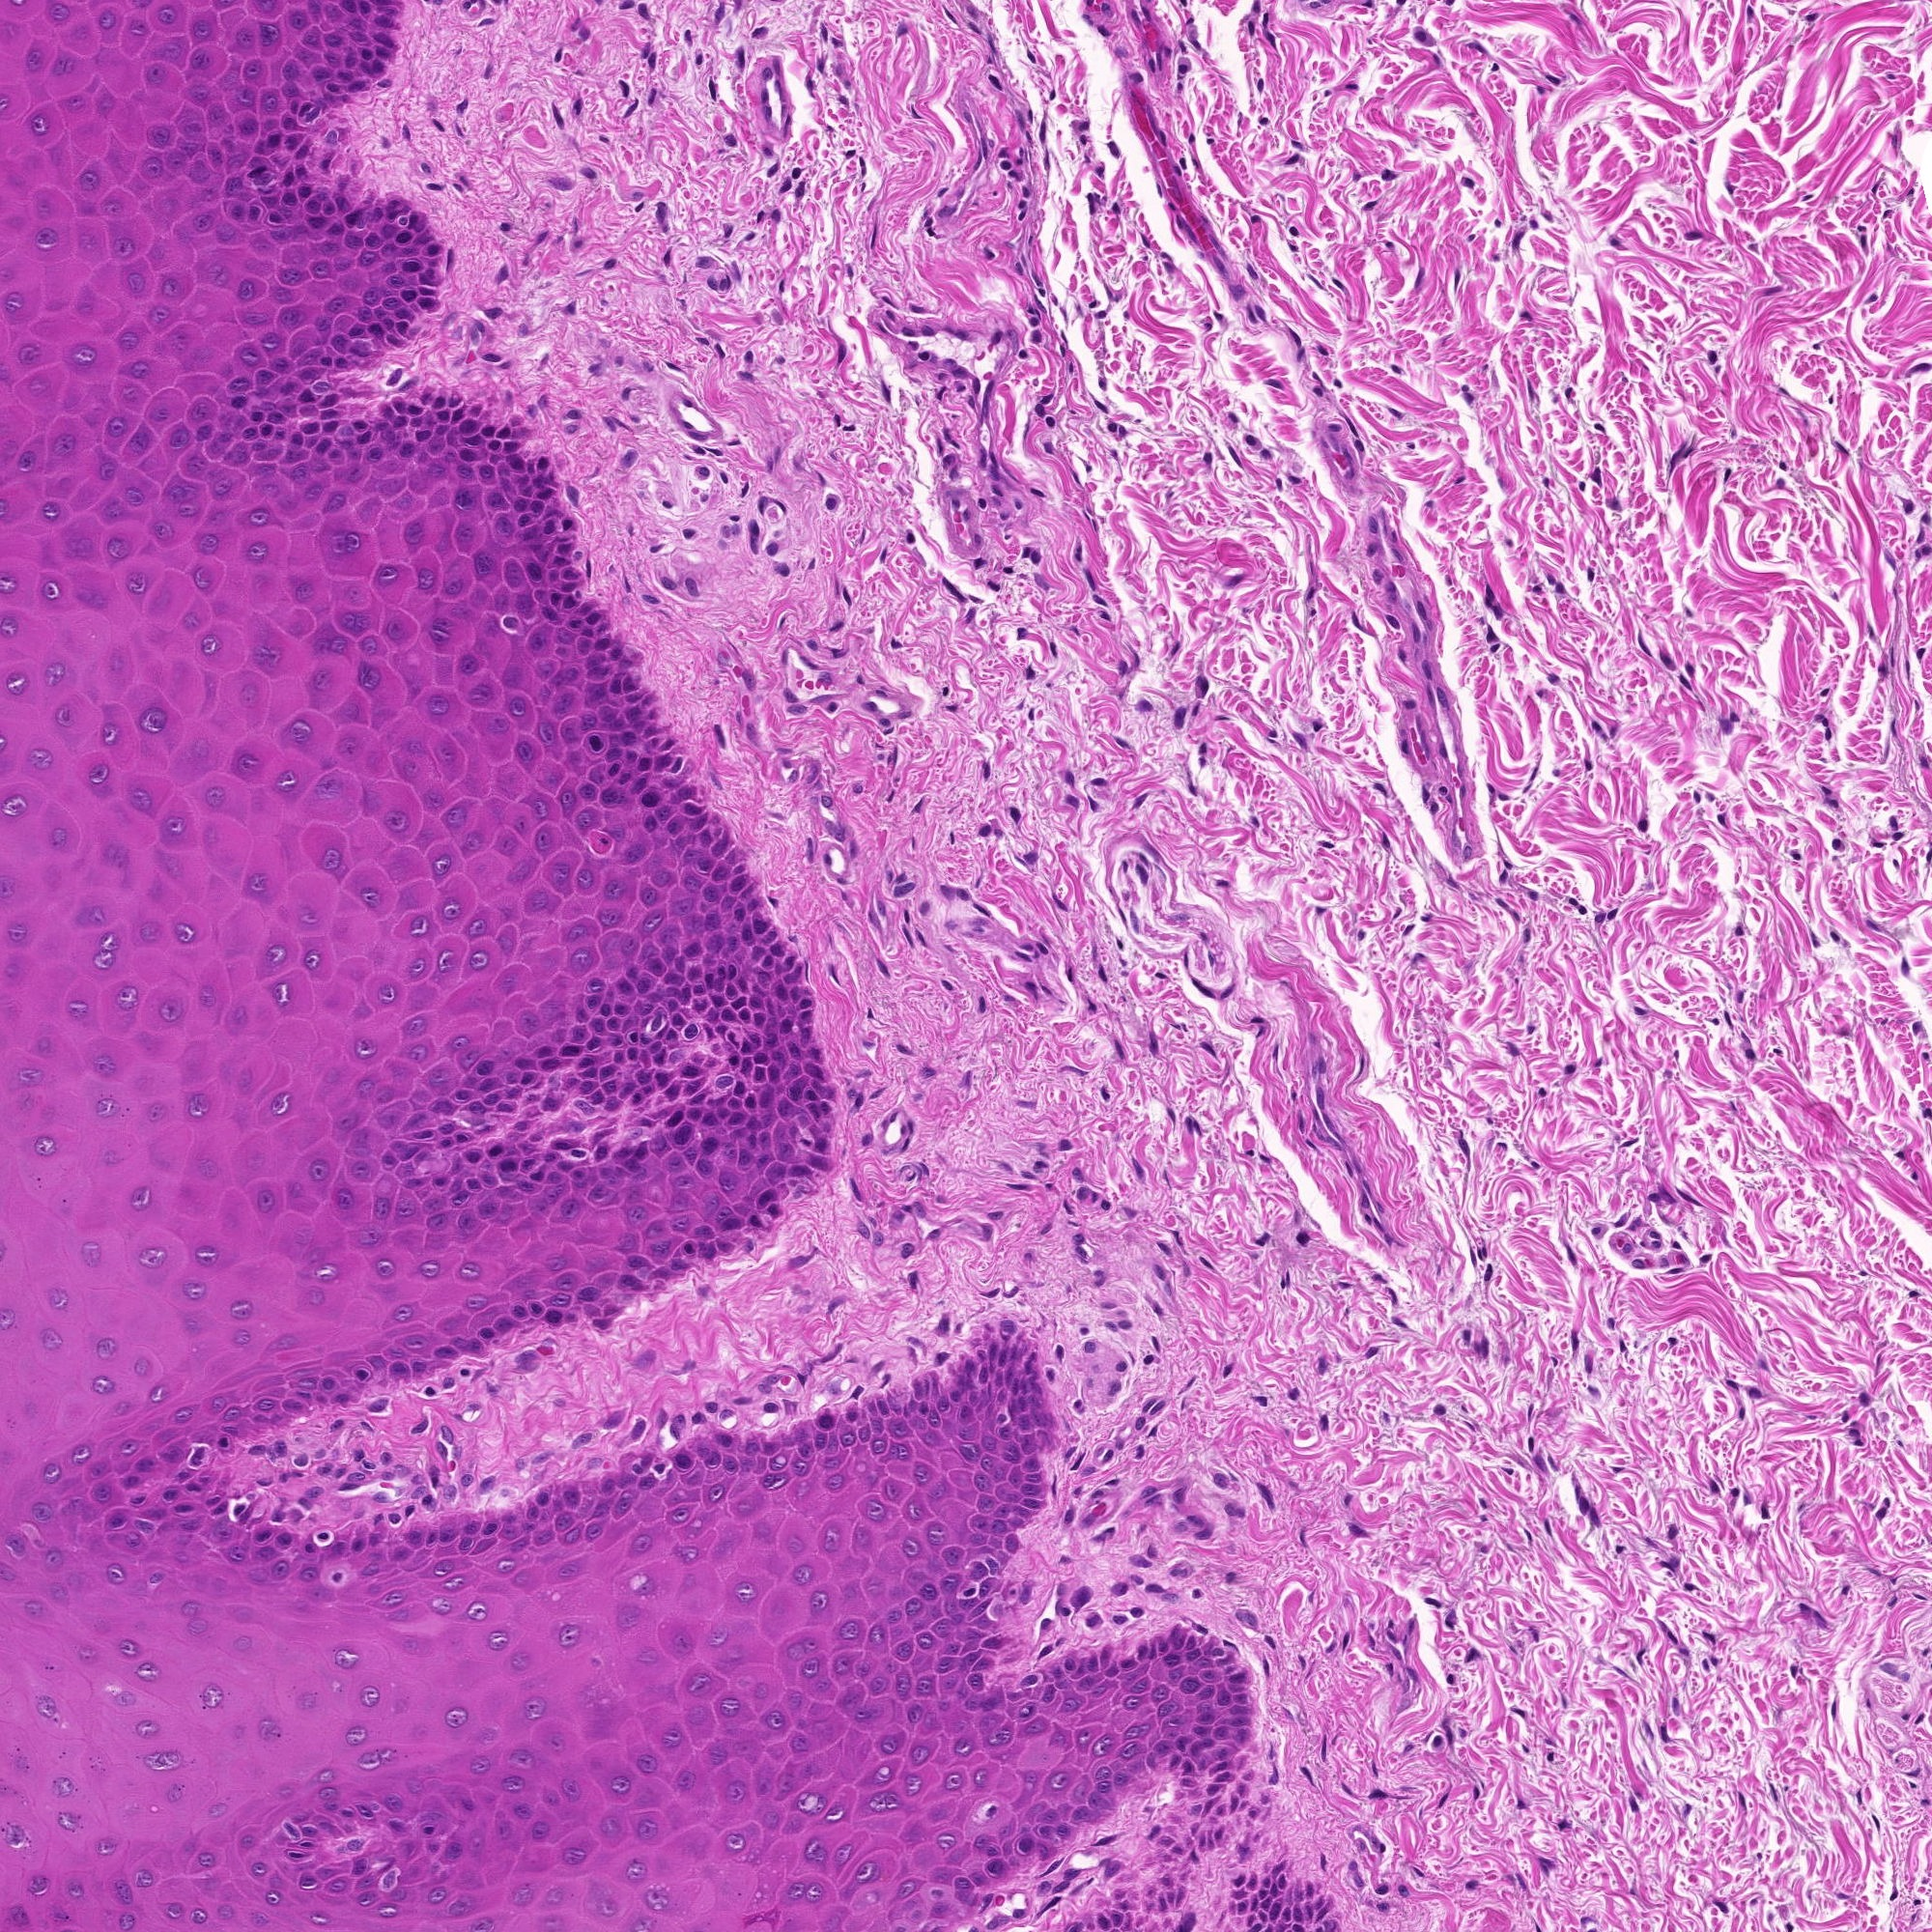epithelial: (380, 320, 412, 354), (439, 387, 471, 421), (258, 1875, 290, 1909), (692, 968, 725, 1000), (1207, 1748, 1240, 1780), (1207, 1633, 1240, 1665), (453, 410, 485, 442), (290, 380, 322, 412), (393, 280, 425, 311), (223, 386, 255, 418), (301, 205, 333, 237), (258, 124, 290, 156), (249, 414, 281, 446), (242, 156, 274, 188), (241, 400, 272, 432), (350, 37, 382, 69), (295, 412, 327, 444), (349, 423, 380, 455), (391, 433, 423, 465), (426, 400, 458, 432), (398, 395, 430, 426), (343, 410, 375, 442), (338, 225, 370, 257), (313, 384, 345, 416), (455, 421, 487, 453), (356, 225, 387, 257), (384, 405, 416, 437), (318, 25, 350, 57), (317, 189, 349, 221), (19, 108, 51, 140), (18, 41, 50, 73), (366, 25, 398, 57), (232, 111, 264, 143), (225, 366, 257, 398), (380, 265, 412, 297), (403, 405, 435, 437), (333, 44, 364, 76), (163, 423, 195, 455), (403, 281, 435, 313), (423, 414, 455, 446), (317, 42, 349, 74), (12, 340, 44, 372), (393, 212, 425, 244), (359, 412, 391, 444), (327, 412, 359, 444), (90, 453, 122, 485), (271, 395, 303, 426), (221, 375, 253, 407), (375, 421, 407, 453), (97, 188, 129, 219), (295, 25, 327, 57), (88, 88, 120, 120), (50, 426, 81, 458), (389, 198, 421, 230), (255, 87, 287, 119), (306, 180, 338, 212), (349, 203, 380, 235), (152, 2, 184, 34), (184, 396, 216, 428), (209, 219, 241, 251), (255, 437, 287, 469), (382, 216, 414, 248), (143, 299, 175, 331), (317, 120, 349, 152), (306, 407, 338, 439), (297, 340, 329, 372), (230, 78, 262, 110), (249, 403, 281, 435), (336, 458, 368, 490), (260, 211, 292, 242), (350, 27, 382, 58), (264, 145, 295, 177), (343, 69, 375, 101), (71, 193, 103, 225), (175, 111, 207, 143), (423, 235, 455, 267), (331, 329, 363, 361), (311, 205, 343, 237), (405, 234, 437, 265), (271, 173, 303, 205), (338, 437, 370, 469), (453, 648, 485, 679), (370, 557, 402, 589), (350, 658, 382, 690), (34, 495, 65, 527), (379, 614, 410, 646), (285, 571, 317, 603), (143, 513, 175, 545), (421, 688, 453, 720), (96, 495, 127, 527), (142, 701, 173, 732), (241, 536, 272, 568), (34, 575, 65, 607), (241, 867, 272, 899), (126, 784, 157, 816), (186, 561, 218, 593), (101, 839, 133, 870), (80, 584, 111, 616), (299, 671, 331, 702), (458, 941, 490, 973), (62, 533, 94, 564), (448, 596, 479, 628), (345, 1359, 377, 1391), (311, 1368, 343, 1399), (426, 1090, 458, 1122), (264, 977, 295, 1008), (278, 1175, 310, 1207), (387, 1297, 419, 1329), (166, 1399, 198, 1431), (414, 1254, 446, 1286), (345, 1122, 377, 1154), (88, 1369, 120, 1401), (271, 1325, 303, 1357), (449, 1033, 481, 1065), (150, 1421, 182, 1453), (446, 1332, 478, 1364), (154, 1477, 186, 1509), (341, 1529, 373, 1560), (412, 1813, 444, 1845), (177, 1472, 209, 1504), (451, 1789, 483, 1821), (449, 1529, 481, 1560), (377, 1787, 409, 1819), (292, 1815, 324, 1847), (25, 1495, 57, 1527), (221, 1539, 253, 1571), (350, 1875, 382, 1907), (122, 1484, 154, 1516), (172, 1463, 203, 1495), (205, 1516, 237, 1548), (214, 1493, 246, 1525), (142, 1560, 173, 1592), (18, 1592, 50, 1624), (195, 1681, 226, 1713), (168, 1502, 200, 1534), (421, 1877, 453, 1909), (354, 1681, 386, 1713), (499, 458, 531, 490), (612, 442, 644, 474), (492, 453, 524, 485), (497, 439, 529, 471), (518, 554, 550, 586), (625, 768, 656, 800), (628, 748, 660, 780), (722, 867, 754, 899), (600, 671, 632, 702), (761, 936, 793, 968), (617, 697, 649, 729), (688, 847, 720, 879), (600, 637, 632, 669), (513, 518, 545, 550), (527, 824, 559, 856), (570, 593, 602, 625), (552, 575, 584, 607), (571, 708, 603, 740), (550, 520, 582, 552), (490, 828, 522, 860), (568, 628, 600, 660), (591, 633, 623, 665), (596, 874, 628, 906), (527, 886, 559, 918), (510, 552, 541, 584), (536, 536, 568, 568), (483, 709, 515, 741), (938, 485, 970, 517), (518, 531, 550, 563), (660, 775, 692, 807), (589, 617, 621, 649), (690, 931, 722, 962), (722, 886, 754, 918), (663, 826, 695, 858), (628, 706, 660, 738), (575, 717, 607, 748), (605, 717, 637, 748), (607, 727, 639, 759), (483, 607, 515, 639), (495, 506, 527, 538), (706, 847, 738, 879), (545, 863, 577, 895), (501, 584, 533, 616), (635, 692, 667, 724), (702, 985, 734, 1017), (740, 985, 771, 1017), (736, 1026, 768, 1058), (711, 1000, 743, 1031), (713, 1208, 745, 1240), (743, 1058, 775, 1090), (563, 1017, 594, 1049), (764, 975, 796, 1007), (662, 1005, 694, 1037), (589, 994, 621, 1026), (694, 1104, 725, 1136), (644, 1040, 676, 1072), (706, 993, 738, 1024), (778, 1033, 810, 1065), (511, 1146, 543, 1178), (715, 975, 747, 1007), (743, 1003, 775, 1035), (805, 1093, 837, 1125), (612, 1072, 644, 1104), (676, 1072, 708, 1104), (750, 1083, 782, 1115), (789, 991, 821, 1023), (600, 1138, 632, 1169), (640, 1003, 672, 1035), (510, 1343, 541, 1375), (694, 1237, 725, 1269), (688, 1152, 720, 1184), (729, 1141, 761, 1173), (635, 1069, 667, 1100), (699, 977, 731, 1008), (637, 1030, 669, 1062), (692, 1118, 724, 1150), (908, 1392, 939, 1424), (929, 1387, 961, 1419), (573, 1062, 605, 1093), (564, 1031, 596, 1063), (591, 1086, 623, 1118), (490, 1086, 522, 1118), (626, 1039, 658, 1070), (513, 1005, 545, 1037), (630, 1024, 662, 1056), (789, 1016, 821, 1047), (547, 1037, 579, 1069), (706, 1086, 738, 1118), (628, 1343, 660, 1375), (552, 1141, 584, 1173), (596, 1157, 628, 1189), (759, 1016, 791, 1047), (690, 1085, 722, 1116), (575, 1076, 607, 1108), (759, 1033, 791, 1065), (481, 1315, 513, 1346), (552, 1024, 584, 1056), (729, 1062, 761, 1093), (918, 1401, 950, 1433), (633, 975, 665, 1007), (784, 1024, 816, 1056), (738, 1067, 770, 1099), (775, 962, 807, 994), (596, 1063, 628, 1095), (862, 1401, 893, 1433), (563, 1044, 594, 1076), (731, 1099, 763, 1131), (653, 978, 685, 1010), (782, 1046, 814, 1077), (506, 1122, 538, 1154), (589, 1030, 621, 1062), (711, 1040, 743, 1072), (552, 1300, 584, 1332), (667, 1444, 699, 1476), (913, 1576, 945, 1608), (701, 1474, 732, 1506), (853, 1856, 885, 1888), (862, 1670, 893, 1702), (835, 1614, 867, 1645), (922, 1798, 954, 1829), (625, 1451, 656, 1483), (487, 1813, 518, 1845), (720, 1822, 752, 1854), (916, 1516, 948, 1548), (782, 1874, 814, 1905), (610, 1465, 642, 1497), (846, 1520, 878, 1552), (784, 1451, 816, 1483), (922, 1884, 954, 1916), (490, 1509, 522, 1541), (612, 1599, 644, 1631), (534, 1783, 566, 1815), (1330, 439, 1362, 471), (1161, 182, 1192, 214), (993, 1311, 1024, 1343), (985, 1408, 1017, 1440), (1012, 1387, 1044, 1419), (977, 1362, 1008, 1394), (1010, 1829, 1042, 1861), (978, 1626, 1010, 1658), (1164, 1727, 1196, 1759), (1111, 1647, 1143, 1679), (1076, 1647, 1108, 1679), (961, 1665, 993, 1697), (1065, 1798, 1097, 1829), (1208, 1683, 1240, 1714), (962, 1863, 994, 1895), (1254, 1875, 1286, 1907), (1192, 1660, 1224, 1691), (1263, 1858, 1295, 1890), (1240, 1888, 1272, 1920), (1261, 1882, 1293, 1914), (964, 1507, 996, 1539), (1095, 1852, 1127, 1884), (1205, 1737, 1237, 1769), (1219, 1718, 1251, 1750), (1184, 1750, 1215, 1782), (1016, 1465, 1047, 1497), (985, 1495, 1017, 1527), (1208, 1760, 1240, 1792), (1286, 1522, 1318, 1553), (1099, 1900, 1131, 1932), (961, 1679, 993, 1711), (1207, 1725, 1238, 1757), (416, 230, 446, 264), (412, 260, 442, 294), (395, 226, 428, 257), (396, 239, 426, 272), (258, 426, 288, 460), (717, 1021, 747, 1054), (534, 1141, 568, 1171), (860, 1495, 893, 1525), (1398, 731, 1431, 761), (1028, 1815, 1062, 1845), (387, 223, 419, 253), (396, 249, 426, 281), (338, 203, 370, 234), (274, 182, 304, 214), (453, 439, 483, 471), (288, 175, 320, 205), (405, 421, 437, 451), (442, 400, 472, 432), (272, 163, 303, 195), (386, 311, 418, 341), (260, 202, 290, 234), (398, 205, 428, 237), (276, 126, 306, 157), (308, 430, 338, 462), (281, 5, 313, 35), (253, 18, 283, 50), (313, 395, 343, 426), (368, 5, 398, 37), (341, 334, 373, 364), (262, 402, 292, 433), (272, 372, 303, 403), (387, 297, 418, 329), (329, 60, 359, 92), (377, 196, 409, 226), (276, 303, 308, 333), (412, 287, 442, 318), (449, 455, 481, 485), (310, 345, 341, 375), (373, 311, 405, 341), (223, 196, 255, 226), (232, 274, 264, 304), (283, 133, 313, 165), (30, 219, 60, 251), (391, 288, 421, 320), (145, 120, 175, 152), (384, 391, 414, 423), (138, 58, 170, 88), (265, 418, 295, 449), (265, 350, 297, 380), (73, 163, 104, 193), (255, 186, 287, 216), (412, 276, 444, 306), (317, 73, 349, 103), (379, 290, 410, 320), (188, 416, 219, 446), (276, 260, 308, 290), (292, 359, 322, 391), (311, 421, 341, 453), (349, 299, 380, 329), (451, 396, 481, 428), (361, 198, 393, 228), (276, 57, 306, 88), (184, 46, 216, 76), (320, 290, 352, 320), (124, 12, 154, 44), (246, 133, 278, 163), (111, 324, 143, 354), (363, 46, 393, 78), (310, 149, 341, 179), (327, 175, 357, 207), (237, 55, 269, 85), (407, 225, 439, 255), (464, 414, 495, 444), (288, 150, 318, 182), (90, 5, 122, 35), (437, 410, 467, 442), (306, 196, 336, 228), (343, 19, 373, 51), (234, 338, 265, 368), (373, 412, 405, 442), (313, 435, 345, 465), (257, 324, 287, 356), (356, 280, 386, 311), (292, 393, 324, 423), (345, 48, 375, 80), (237, 304, 269, 334), (124, 356, 156, 386), (333, 428, 363, 460), (382, 430, 414, 460), (462, 311, 492, 343), (200, 99, 230, 131), (297, 400, 327, 432), (366, 297, 398, 327), (281, 90, 311, 122), (329, 73, 359, 104), (405, 389, 435, 421), (99, 414, 131, 444), (311, 65, 341, 97), (396, 267, 426, 299), (391, 384, 421, 416), (138, 150, 170, 180), (223, 442, 255, 472), (423, 455, 453, 487), (288, 212, 320, 242), (288, 41, 320, 71), (267, 278, 297, 310), (329, 196, 361, 226), (418, 403, 449, 433), (246, 377, 278, 407), (382, 203, 414, 234), (253, 110, 285, 140), (285, 456, 315, 488), (142, 239, 173, 269), (65, 349, 97, 379), (435, 423, 467, 453), (248, 198, 280, 228), (177, 449, 209, 479), (288, 140, 318, 172), (327, 249, 359, 280), (364, 219, 396, 249), (163, 143, 193, 175), (345, 308, 375, 340), (405, 253, 435, 285), (410, 414, 442, 444), (370, 403, 400, 435), (73, 336, 103, 368), (444, 418, 474, 449), (352, 290, 382, 322), (283, 333, 313, 364), (313, 81, 345, 111), (327, 218, 357, 249), (306, 372, 338, 402), (327, 435, 357, 467), (251, 175, 281, 207), (448, 483, 479, 513), (81, 757, 111, 789), (430, 847, 460, 879), (352, 878, 384, 908), (423, 612, 453, 644), (120, 568, 152, 598), (50, 701, 80, 732), (336, 607, 368, 637), (416, 784, 448, 814), (101, 527, 131, 559), (448, 518, 479, 548), (437, 573, 469, 603), (462, 545, 494, 575), (287, 717, 317, 748), (244, 497, 276, 527), (198, 782, 230, 812), (44, 823, 74, 855), (442, 798, 474, 828), (333, 527, 364, 557), (352, 786, 384, 816), (423, 623, 455, 653), (249, 640, 281, 671), (409, 559, 439, 591), (336, 697, 368, 727), (175, 605, 207, 635), (25, 743, 55, 775), (156, 812, 186, 844), (437, 897, 467, 929), (133, 916, 163, 948), (320, 628, 352, 658), (92, 717, 124, 747), (455, 828, 487, 858), (73, 901, 104, 931), (352, 492, 384, 522), (462, 678, 494, 708), (4, 667, 34, 699), (460, 913, 492, 943), (272, 488, 303, 520), (281, 614, 313, 644), (410, 570, 442, 600), (42, 658, 73, 690), (255, 939, 287, 970), (4, 793, 34, 824), (120, 481, 152, 511), (458, 1139, 488, 1171), (430, 1336, 460, 1368), (425, 1164, 455, 1196), (446, 1079, 478, 1109), (458, 1168, 488, 1200), (410, 1118, 441, 1150), (393, 1138, 425, 1168), (458, 1154, 488, 1185), (373, 1143, 403, 1175), (433, 1115, 464, 1146), (458, 1330, 490, 1361), (403, 1350, 433, 1382), (156, 994, 186, 1026), (368, 1253, 398, 1284), (423, 1203, 455, 1233), (373, 1104, 405, 1134), (264, 1086, 295, 1116), (278, 1389, 308, 1421), (88, 1330, 120, 1361), (327, 1382, 357, 1414), (249, 1389, 280, 1421), (398, 1012, 430, 1042), (442, 1028, 472, 1060), (301, 1154, 333, 1184), (140, 1097, 172, 1127), (435, 1309, 467, 1339), (455, 1253, 487, 1283), (403, 1139, 435, 1169), (62, 996, 94, 1026), (177, 1277, 209, 1307), (329, 1109, 361, 1139), (191, 982, 223, 1012), (418, 1116, 449, 1146), (223, 1003, 255, 1033), (14, 1062, 46, 1092), (460, 1063, 490, 1095), (435, 1088, 467, 1118), (209, 1422, 241, 1453), (402, 1325, 432, 1357), (142, 1376, 172, 1408), (402, 1037, 433, 1067), (458, 1290, 490, 1320), (290, 1378, 320, 1410), (389, 1196, 421, 1226), (345, 996, 377, 1026), (246, 1520, 278, 1550), (166, 1493, 198, 1523), (129, 1449, 161, 1479), (343, 1852, 375, 1882), (226, 1495, 257, 1527), (115, 1465, 145, 1497), (180, 1442, 212, 1472), (142, 1497, 172, 1529), (350, 1796, 382, 1826), (384, 1539, 416, 1569), (23, 1868, 55, 1898), (432, 1520, 462, 1552), (292, 1865, 322, 1897), (242, 1852, 274, 1882), (322, 1530, 352, 1562), (398, 1522, 430, 1552), (230, 1826, 262, 1856), (173, 1509, 205, 1539), (380, 1810, 410, 1842), (249, 1536, 280, 1568), (264, 1553, 295, 1583), (2, 1527, 32, 1559), (129, 1863, 161, 1893), (4, 1898, 34, 1930), (83, 1454, 113, 1486), (58, 1874, 90, 1904), (35, 1454, 65, 1486), (191, 1844, 221, 1875), (39, 1539, 69, 1571), (428, 1550, 458, 1582), (129, 1509, 159, 1541), (119, 1527, 149, 1559), (147, 1744, 179, 1775), (393, 1833, 425, 1863), (442, 1704, 472, 1736), (310, 1810, 341, 1840), (276, 1813, 306, 1845), (359, 1523, 389, 1555), (198, 1486, 230, 1516), (442, 1518, 474, 1548), (311, 1856, 341, 1888), (290, 1828, 320, 1859), (173, 1592, 205, 1622), (357, 1550, 387, 1582), (329, 1647, 361, 1677), (188, 1467, 219, 1497), (111, 1884, 142, 1916), (276, 1826, 306, 1858), (58, 1490, 88, 1522), (501, 448, 533, 478), (494, 432, 525, 462), (479, 428, 510, 460), (525, 448, 556, 479), (510, 451, 541, 481), (508, 464, 538, 495), (487, 258, 518, 288), (580, 352, 610, 384), (545, 168, 577, 198), (488, 462, 520, 492), (858, 221, 888, 253), (481, 444, 513, 474), (757, 444, 789, 474), (633, 784, 663, 816), (508, 504, 540, 534), (593, 782, 625, 812), (554, 586, 584, 617), (614, 722, 644, 754), (559, 607, 589, 639), (540, 582, 571, 612), (731, 918, 761, 950), (681, 800, 713, 830), (508, 738, 540, 768), (598, 754, 628, 786), (635, 807, 665, 839), (520, 492, 552, 522), (725, 897, 755, 929), (534, 511, 564, 543), (610, 669, 640, 701), (614, 741, 646, 771), (573, 773, 603, 805), (702, 858, 734, 888), (481, 485, 511, 517), (598, 738, 628, 770), (543, 545, 575, 575), (550, 508, 580, 540), (690, 821, 720, 853), (488, 510, 520, 540), (695, 878, 727, 908), (617, 839, 649, 869), (571, 616, 602, 648), (579, 651, 610, 681), (554, 557, 584, 589), (501, 690, 533, 720), (633, 879, 663, 911), (741, 938, 771, 970), (752, 915, 782, 947), (495, 605, 525, 637), (570, 807, 602, 837), (602, 708, 632, 740), (510, 589, 540, 621), (552, 784, 582, 816), (495, 559, 527, 589), (529, 479, 561, 510), (662, 748, 692, 780), (704, 929, 736, 959), (525, 536, 556, 568), (580, 777, 612, 807), (754, 941, 786, 971), (655, 768, 685, 800), (586, 656, 617, 686), (824, 816, 855, 847), (586, 605, 616, 637), (676, 867, 708, 897), (729, 874, 759, 906), (686, 805, 718, 835), (497, 660, 527, 692), (612, 646, 644, 676), (649, 862, 679, 893), (547, 690, 579, 720), (738, 886, 768, 918), (617, 681, 648, 713), (580, 763, 612, 793), (773, 941, 803, 973), (640, 789, 672, 819), (552, 660, 584, 690), (649, 727, 679, 759), (538, 763, 568, 794), (522, 789, 552, 821), (488, 927, 520, 957), (570, 862, 602, 892), (635, 715, 665, 747), (531, 715, 561, 747), (487, 586, 517, 617), (566, 600, 596, 632), (729, 908, 759, 939), (545, 663, 575, 695), (550, 621, 580, 653), (508, 856, 540, 886), (538, 561, 570, 591), (591, 824, 623, 855), (587, 731, 619, 761), (699, 824, 729, 856), (653, 920, 683, 952), (637, 727, 667, 759), (635, 941, 665, 973), (639, 778, 669, 810), (614, 929, 644, 961), (547, 568, 579, 598), (490, 897, 522, 927), (525, 579, 556, 610), (490, 488, 522, 518), (488, 768, 520, 798), (619, 715, 649, 747), (501, 862, 533, 892), (598, 770, 628, 801), (713, 886, 743, 918), (550, 550, 580, 582), (674, 1054, 704, 1086), (660, 1102, 692, 1132), (667, 1120, 697, 1152), (646, 1063, 678, 1093), (718, 1046, 750, 1076), (656, 1076, 686, 1108), (582, 1010, 614, 1040), (621, 1023, 653, 1053), (794, 1079, 826, 1109), (679, 1099, 709, 1131), (810, 1405, 840, 1437), (771, 1010, 801, 1042), (571, 1279, 603, 1309), (734, 1086, 764, 1118), (534, 1047, 564, 1079), (669, 980, 701, 1010), (722, 987, 754, 1017), (780, 1076, 812, 1106), (605, 993, 635, 1024), (610, 971, 640, 1003), (602, 1024, 632, 1056), (731, 1051, 761, 1083), (522, 1161, 554, 1191), (573, 1053, 603, 1085), (538, 1300, 570, 1330), (784, 1155, 816, 1185), (752, 1180, 782, 1212), (520, 1293, 550, 1325), (614, 1139, 644, 1171), (800, 1046, 830, 1077), (502, 1297, 534, 1327), (575, 1042, 605, 1074), (579, 985, 610, 1016), (529, 1035, 559, 1067), (488, 1309, 520, 1339), (801, 1058, 833, 1088), (755, 1024, 786, 1056), (617, 1037, 648, 1069), (655, 1019, 685, 1051), (681, 959, 711, 991), (688, 1215, 718, 1247), (554, 1192, 586, 1223), (534, 1088, 566, 1118), (614, 961, 646, 991), (564, 998, 596, 1028), (580, 968, 610, 1000), (775, 978, 805, 1010), (676, 1016, 706, 1047), (763, 1042, 794, 1072), (596, 1008, 628, 1039), (729, 1033, 761, 1063), (740, 1207, 770, 1238), (656, 1125, 688, 1155), (497, 1077, 527, 1109), (709, 1065, 740, 1097), (488, 1141, 520, 1171), (646, 1127, 676, 1159), (582, 1175, 612, 1207), (701, 1093, 731, 1125), (550, 1150, 580, 1182), (904, 1373, 936, 1403), (722, 1083, 752, 1115), (738, 1108, 768, 1139), (559, 1134, 591, 1164), (667, 1077, 699, 1108), (708, 1007, 738, 1039), (646, 1233, 676, 1265), (748, 959, 778, 991), (708, 1231, 740, 1261), (676, 984, 706, 1016), (639, 1214, 671, 1244), (667, 1111, 699, 1141), (550, 1265, 582, 1295), (706, 961, 738, 991), (837, 1399, 867, 1431), (738, 1125, 768, 1157), (699, 1012, 731, 1042), (796, 1037, 826, 1069), (883, 1412, 913, 1444), (656, 989, 686, 1021), (805, 1129, 837, 1159), (775, 1085, 807, 1115), (715, 959, 747, 989), (708, 1076, 738, 1108), (541, 1284, 573, 1315), (563, 1162, 594, 1192), (524, 1047, 554, 1079), (743, 1024, 775, 1054), (648, 1256, 678, 1288), (637, 1132, 669, 1162), (630, 993, 662, 1023), (646, 1024, 678, 1054), (786, 1421, 816, 1453), (495, 1062, 527, 1092), (752, 1104, 784, 1134), (722, 1118, 754, 1148), (754, 1072, 784, 1104), (506, 1109, 538, 1139), (479, 1085, 510, 1116), (731, 1019, 761, 1051), (527, 1189, 557, 1221), (913, 1371, 945, 1401), (656, 1062, 688, 1092), (596, 1405, 628, 1435), (709, 1421, 740, 1453), (793, 1150, 824, 1180), (630, 1108, 662, 1138), (782, 1063, 812, 1095), (692, 1016, 724, 1046), (924, 1394, 954, 1426), (655, 1097, 686, 1127), (667, 961, 697, 993), (722, 1033, 752, 1065), (607, 1154, 639, 1184), (612, 1230, 644, 1260), (584, 1070, 616, 1100), (571, 1016, 603, 1046), (743, 1184, 773, 1215), (669, 1164, 699, 1196), (805, 1419, 837, 1449), (594, 1295, 626, 1325), (584, 1122, 614, 1154), (621, 1198, 653, 1228), (571, 991, 602, 1023), (754, 1010, 784, 1042), (610, 1007, 640, 1039), (580, 1251, 612, 1281), (741, 977, 773, 1007), (793, 1100, 824, 1131), (655, 1001, 685, 1033), (479, 1194, 510, 1226), (617, 1178, 648, 1210), (674, 1116, 706, 1146), (709, 1201, 741, 1231), (506, 1269, 538, 1299), (754, 993, 786, 1023), (497, 1161, 527, 1192), (665, 1210, 697, 1240), (644, 1014, 676, 1044), (591, 1148, 621, 1180), (559, 1154, 589, 1185), (616, 1254, 646, 1286), (540, 996, 571, 1026), (603, 1086, 635, 1116), (564, 1008, 596, 1039), (743, 1088, 773, 1120), (794, 1053, 824, 1085), (541, 1173, 573, 1203), (497, 1132, 529, 1162), (901, 1387, 931, 1419), (732, 1116, 763, 1148), (621, 1269, 651, 1300), (683, 1233, 713, 1265), (777, 1115, 807, 1146), (556, 1479, 586, 1511), (938, 1539, 968, 1571), (697, 1442, 727, 1474), (929, 1649, 961, 1679), (529, 1483, 559, 1514), (630, 1746, 660, 1778), (876, 1727, 908, 1757), (761, 1704, 793, 1734), (715, 1451, 747, 1481), (906, 1458, 938, 1488), (897, 1697, 929, 1727), (911, 1670, 941, 1702), (663, 1497, 695, 1527), (934, 1568, 964, 1599), (607, 1488, 637, 1520), (897, 1819, 929, 1849), (656, 1721, 688, 1752), (667, 1626, 697, 1658), (561, 1840, 591, 1872), (630, 1812, 660, 1844), (784, 1729, 816, 1759), (607, 1766, 639, 1796), (508, 1739, 538, 1771), (897, 1592, 929, 1622), (906, 1734, 936, 1766), (849, 1698, 881, 1729), (938, 1560, 970, 1591), (527, 1522, 559, 1552), (685, 1667, 715, 1698), (821, 1467, 853, 1497), (938, 1766, 968, 1798), (828, 1647, 860, 1677), (554, 1773, 586, 1803), (715, 1690, 747, 1720), (586, 1493, 616, 1525), (796, 1651, 826, 1683), (502, 1529, 534, 1559), (626, 1527, 656, 1559), (791, 1629, 823, 1660), (596, 1810, 628, 1840), (502, 1645, 533, 1677), (748, 1769, 778, 1801), (678, 1463, 708, 1495), (780, 1686, 812, 1716), (835, 1576, 865, 1608), (632, 1571, 662, 1603), (720, 1775, 752, 1805), (552, 1497, 582, 1529), (621, 1849, 651, 1881), (727, 1580, 759, 1610), (890, 1874, 920, 1905), (513, 1507, 545, 1537), (939, 1598, 970, 1629), (816, 1527, 846, 1559), (805, 1783, 837, 1813), (816, 1445, 846, 1477), (938, 1576, 968, 1608), (1139, 113, 1171, 143), (1122, 85, 1152, 117), (1256, 718, 1286, 750), (993, 1341, 1024, 1371), (978, 1338, 1010, 1368), (1304, 1051, 1336, 1081), (970, 1359, 1000, 1391), (1003, 1369, 1033, 1401), (1085, 1261, 1115, 1293), (993, 1357, 1024, 1387), (1336, 1152, 1368, 1182), (1017, 1380, 1047, 1412), (1005, 1380, 1037, 1410), (1346, 1049, 1378, 1079), (1001, 1399, 1031, 1431), (978, 1851, 1008, 1882), (1155, 1644, 1185, 1675), (1175, 1635, 1207, 1665), (1175, 1668, 1205, 1700), (1247, 1881, 1277, 1913), (975, 1688, 1007, 1718), (1014, 1695, 1044, 1727), (1161, 1622, 1191, 1654), (1131, 1637, 1161, 1668), (962, 1555, 994, 1585), (1047, 1815, 1079, 1845), (1205, 1716, 1235, 1748), (966, 1828, 996, 1859), (1191, 1702, 1223, 1732), (1283, 1898, 1313, 1930), (1010, 1578, 1040, 1610), (996, 1527, 1026, 1559), (1016, 1488, 1047, 1518), (1016, 1477, 1046, 1509), (1054, 1651, 1086, 1681), (968, 1573, 998, 1605), (1072, 1667, 1104, 1697), (1171, 1626, 1201, 1658), (1016, 1447, 1046, 1479), (970, 1488, 1001, 1518), (1125, 1670, 1155, 1702), (973, 1833, 1003, 1865), (1173, 1752, 1203, 1783), (998, 1440, 1028, 1472), (1014, 1665, 1046, 1695), (987, 1720, 1017, 1752), (1097, 1654, 1127, 1686), (1122, 1714, 1154, 1744), (1090, 1730, 1122, 1760), (966, 1647, 996, 1679), (1148, 1629, 1178, 1661), (1161, 1748, 1192, 1778), (984, 1509, 1014, 1541), (1224, 1711, 1256, 1741), (1150, 1695, 1182, 1725), (968, 1585, 1000, 1615), (964, 1467, 996, 1497), (1161, 1633, 1191, 1665), (1162, 1479, 1192, 1511), (1070, 1654, 1100, 1686), (1184, 1640, 1214, 1672), (964, 1688, 994, 1720), (1086, 1773, 1118, 1803), (1017, 1713, 1047, 1744), (1251, 1898, 1281, 1930), (1194, 1718, 1226, 1748), (1182, 1674, 1214, 1704), (1079, 1783, 1111, 1813), (1067, 1720, 1099, 1750), (1047, 1762, 1077, 1794), (1292, 1877, 1323, 1907), (1247, 1868, 1279, 1898), (1224, 1690, 1256, 1720), (1088, 1898, 1118, 1930), (1014, 1762, 1046, 1792), (1031, 1831, 1062, 1863), (1161, 1706, 1192, 1736), (1161, 1881, 1191, 1913), (977, 1794, 1007, 1826), (1088, 1764, 1120, 1794), (1208, 1645, 1240, 1675), (453, 1131, 481, 1164), (361, 313, 391, 343), (341, 315, 372, 345), (315, 412, 345, 442), (359, 439, 389, 469), (326, 188, 356, 218), (336, 67, 366, 97), (320, 214, 350, 244), (281, 425, 311, 455), (354, 51, 384, 81), (249, 361, 280, 391), (283, 157, 313, 188), (326, 347, 356, 377), (239, 196, 269, 226), (235, 418, 265, 448), (373, 216, 403, 246), (324, 326, 354, 356), (366, 37, 396, 67), (11, 444, 41, 474), (425, 387, 455, 418), (126, 425, 156, 455), (373, 396, 403, 426), (186, 12, 216, 42), (265, 219, 295, 249), (352, 244, 382, 274), (200, 140, 230, 170), (48, 50, 78, 80), (373, 234, 403, 264), (278, 441, 308, 471), (366, 308, 396, 338), (276, 76, 306, 106), (308, 310, 338, 340), (58, 88, 88, 119), (156, 269, 186, 299), (393, 400, 423, 430), (188, 205, 218, 235), (313, 232, 343, 262), (460, 396, 490, 426), (290, 419, 320, 449), (446, 168, 476, 198), (341, 11, 372, 41), (120, 267, 150, 297), (110, 228, 140, 258), (382, 303, 412, 333), (71, 290, 101, 320), (209, 423, 239, 453), (334, 343, 364, 373), (421, 432, 451, 462), (165, 322, 195, 352), (352, 317, 382, 347), (28, 189, 58, 219), (184, 80, 214, 110), (304, 90, 334, 120), (274, 382, 304, 412), (244, 432, 274, 462), (99, 143, 129, 173), (249, 163, 280, 193), (271, 198, 301, 228), (65, 18, 96, 48), (249, 455, 280, 485), (331, 209, 361, 239), (205, 258, 235, 288), (274, 154, 304, 184), (278, 218, 308, 248), (384, 251, 414, 281), (264, 375, 294, 405), (398, 517, 428, 547), (228, 745, 258, 775), (380, 805, 410, 835), (193, 628, 223, 658), (322, 485, 352, 515), (403, 908, 433, 938), (306, 663, 336, 694), (166, 918, 196, 948), (334, 731, 364, 761), (313, 770, 343, 800), (274, 771, 304, 801), (308, 628, 338, 658), (318, 846, 349, 876), (433, 738, 464, 768), (4, 918, 34, 948), (410, 821, 441, 851), (398, 671, 428, 701), (391, 754, 421, 784), (202, 501, 232, 531), (142, 878, 172, 908), (398, 731, 428, 761), (352, 630, 382, 660), (271, 763, 301, 793), (96, 931, 126, 961), (294, 941, 324, 971), (356, 667, 386, 697), (393, 885, 423, 915), (384, 1353, 414, 1384), (448, 1122, 478, 1152), (446, 1180, 476, 1210), (249, 1184, 280, 1214), (451, 1207, 481, 1237), (430, 1127, 460, 1157), (329, 1182, 359, 1212), (368, 1191, 398, 1221), (124, 1180, 154, 1210), (182, 1086, 212, 1116), (402, 1106, 432, 1136), (191, 1238, 221, 1269), (350, 1031, 380, 1062), (400, 1168, 430, 1198), (345, 1154, 375, 1184), (361, 1346, 391, 1376), (226, 1295, 257, 1325), (28, 1031, 58, 1062), (423, 1065, 453, 1095), (465, 1053, 495, 1083), (350, 1069, 380, 1099), (421, 1194, 451, 1224), (442, 1152, 472, 1182), (177, 1309, 207, 1339), (382, 1139, 412, 1169), (372, 1079, 402, 1109), (356, 1224, 386, 1254), (27, 1131, 57, 1161), (219, 1399, 249, 1430), (442, 1171, 472, 1201), (269, 1525, 299, 1555), (101, 1506, 131, 1536), (439, 1835, 469, 1865), (87, 1477, 117, 1507), (281, 1840, 311, 1870), (203, 1493, 234, 1523), (294, 1532, 324, 1562), (156, 1440, 186, 1470), (294, 1557, 324, 1587), (159, 1895, 189, 1925), (108, 1877, 138, 1907), (456, 1513, 487, 1543), (416, 1522, 446, 1552), (446, 1891, 476, 1921), (111, 1631, 142, 1661), (2, 1821, 32, 1851), (101, 1559, 131, 1589), (255, 1714, 285, 1744), (92, 1831, 122, 1861), (333, 1799, 363, 1829), (315, 1789, 345, 1819), (46, 1900, 76, 1930), (133, 1652, 163, 1683), (363, 1741, 393, 1771), (338, 1716, 368, 1746), (322, 1870, 352, 1900), (57, 1805, 87, 1835), (159, 1776, 189, 1806), (32, 1690, 62, 1720), (373, 1847, 403, 1877), (377, 1583, 407, 1614), (313, 1778, 343, 1808), (120, 1458, 150, 1488), (287, 1803, 317, 1833), (182, 1900, 212, 1930), (525, 464, 556, 494), (596, 407, 626, 437), (580, 727, 610, 757), (534, 600, 564, 630), (587, 628, 617, 658), (676, 934, 706, 964), (676, 794, 706, 824), (738, 915, 768, 945), (648, 747, 678, 777), (577, 602, 607, 632), (745, 909, 775, 939), (671, 778, 701, 809), (658, 812, 688, 842), (648, 798, 678, 828), (548, 533, 579, 563), (706, 832, 736, 862), (584, 678, 614, 708), (522, 626, 552, 656), (717, 927, 747, 957), (697, 906, 727, 936), (603, 784, 633, 814), (554, 718, 584, 748), (602, 817, 632, 847), (596, 904, 626, 934), (759, 925, 789, 955), (548, 855, 579, 885), (506, 810, 536, 840), (630, 685, 660, 715), (545, 589, 575, 619), (559, 743, 589, 773), (536, 497, 566, 527), (594, 702, 625, 732), (655, 939, 685, 970), (561, 918, 591, 948), (717, 863, 747, 893), (812, 786, 842, 816), (736, 717, 766, 747), (513, 487, 543, 517), (524, 563, 554, 593), (531, 656, 561, 686), (635, 906, 665, 936), (556, 1035, 586, 1065), (695, 1129, 725, 1159), (492, 1150, 522, 1180), (481, 1138, 511, 1168), (579, 1028, 609, 1058), (745, 1044, 775, 1074), (593, 1056, 623, 1086), (692, 1138, 722, 1168), (729, 1001, 759, 1031), (511, 1063, 541, 1093), (625, 1138, 655, 1168), (674, 1233, 704, 1263), (759, 1058, 789, 1088), (594, 1072, 625, 1102), (685, 991, 715, 1021), (612, 1265, 642, 1295), (725, 1074, 755, 1104), (679, 975, 709, 1005), (508, 1047, 538, 1077), (621, 1247, 651, 1277), (628, 1063, 658, 1093), (628, 970, 658, 1000), (623, 1083, 653, 1113), (658, 962, 688, 993), (727, 970, 757, 1000), (586, 1138, 616, 1168), (939, 1380, 970, 1410), (545, 1129, 575, 1159), (511, 1171, 541, 1201), (681, 1079, 711, 1109), (582, 1083, 612, 1113), (800, 1070, 830, 1100), (617, 1148, 648, 1178), (801, 1146, 832, 1177), (748, 1145, 778, 1175), (603, 1042, 633, 1072), (867, 1392, 897, 1422), (778, 1056, 809, 1086), (660, 1148, 690, 1178), (711, 1166, 741, 1196), (708, 1099, 738, 1129), (511, 1136, 541, 1166), (676, 1139, 706, 1169), (748, 1123, 778, 1154), (717, 1095, 747, 1125), (699, 1000, 729, 1030), (540, 1162, 570, 1192), (706, 971, 736, 1001), (561, 1145, 591, 1175), (770, 1136, 800, 1166), (628, 1077, 658, 1108), (556, 1067, 586, 1097), (658, 973, 688, 1003), (623, 1070, 653, 1100), (488, 1177, 518, 1207), (492, 968, 522, 998), (807, 1106, 837, 1136), (819, 1403, 849, 1433), (545, 1247, 575, 1277), (738, 1039, 768, 1069), (734, 994, 764, 1024), (506, 1154, 536, 1184), (908, 1154, 938, 1184), (699, 1228, 729, 1258), (646, 1100, 676, 1131), (669, 1099, 699, 1129), (782, 1008, 812, 1039), (849, 1419, 879, 1449), (699, 1189, 729, 1219), (632, 1467, 662, 1497), (757, 1463, 787, 1493), (888, 1635, 918, 1665), (506, 1794, 536, 1824), (800, 1836, 830, 1867), (524, 1815, 554, 1845), (924, 1895, 954, 1925), (702, 1739, 732, 1769), (499, 1766, 529, 1796), (878, 1476, 908, 1506), (554, 1555, 584, 1585), (833, 1684, 863, 1714), (579, 1514, 609, 1545), (548, 1506, 579, 1536), (911, 1624, 941, 1654), (803, 1589, 833, 1619), (874, 1783, 904, 1813), (518, 1497, 548, 1527), (863, 1619, 893, 1649), (786, 1559, 816, 1589), (901, 1497, 931, 1527), (748, 1518, 778, 1548), (886, 1668, 916, 1698), (938, 1633, 968, 1663), (878, 1601, 908, 1631), (508, 1879, 538, 1909), (927, 1861, 957, 1891), (540, 1725, 570, 1755), (847, 1654, 878, 1684), (794, 1755, 824, 1785), (515, 1695, 545, 1725), (897, 1764, 927, 1794), (667, 1539, 697, 1569), (527, 1493, 557, 1523), (821, 1794, 851, 1824), (757, 1803, 787, 1833), (943, 1729, 973, 1759), (1168, 209, 1198, 239), (1175, 214, 1205, 244), (1421, 44, 1451, 74), (1185, 207, 1215, 237), (1412, 655, 1442, 685), (1410, 732, 1440, 763), (989, 1419, 1019, 1449), (1003, 1391, 1033, 1421), (1014, 1352, 1044, 1382), (1014, 1369, 1044, 1399), (1010, 1422, 1040, 1453), (1008, 1341, 1039, 1371), (971, 1350, 1001, 1380), (985, 1382, 1016, 1412), (1258, 1895, 1288, 1925), (1223, 1663, 1253, 1693), (1306, 1895, 1336, 1925), (1033, 1679, 1063, 1709), (1148, 1732, 1178, 1762), (1189, 1729, 1219, 1759), (1180, 1734, 1210, 1764), (1263, 1870, 1293, 1900), (971, 1552, 1001, 1582), (1192, 1677, 1223, 1707), (1185, 1716, 1215, 1746), (1295, 1897, 1325, 1927), (1106, 1764, 1136, 1794), (1230, 1891, 1260, 1921), (1143, 1677, 1173, 1707), (1042, 1658, 1072, 1688), (1118, 1688, 1148, 1718), (964, 1764, 994, 1794), (1228, 1835, 1258, 1865), (1033, 1803, 1063, 1833), (1086, 1642, 1116, 1672), (1056, 1688, 1086, 1718), (1044, 1721, 1074, 1752), (1198, 1635, 1228, 1665), (1116, 1736, 1146, 1766), (1000, 1463, 1030, 1493), (964, 1592, 994, 1622), (968, 1605, 998, 1635), (959, 1621, 989, 1651), (306, 58, 334, 90), (290, 96, 322, 124), (297, 191, 329, 219), (145, 400, 177, 428), (228, 23, 260, 51), (373, 253, 405, 281), (193, 527, 225, 556), (372, 978, 403, 1007), (460, 1093, 492, 1122), (453, 1072, 485, 1100), (382, 1881, 414, 1909), (490, 418, 522, 446), (517, 460, 545, 492), (506, 488, 534, 520), (602, 747, 633, 775), (485, 497, 513, 529), (722, 1102, 750, 1134), (763, 1157, 794, 1185), (570, 1072, 602, 1100), (642, 980, 671, 1012), (671, 1010, 702, 1039), (789, 1072, 821, 1100), (552, 1619, 584, 1647), (479, 1511, 508, 1543), (925, 1476, 954, 1507), (731, 1493, 763, 1522), (485, 1626, 513, 1658), (725, 1451, 757, 1479), (1272, 1898, 1300, 1930), (1138, 1744, 1169, 1773), (274, 108, 303, 138), (218, 170, 248, 198), (327, 336, 356, 366), (304, 253, 334, 281), (90, 1051, 120, 1079), (110, 978, 140, 1007), (127, 1350, 156, 1380), (460, 1598, 490, 1626), (610, 763, 639, 793), (653, 738, 681, 768), (732, 663, 763, 692), (740, 904, 770, 932), (667, 893, 697, 922), (770, 1093, 800, 1122), (663, 1251, 694, 1279), (810, 1077, 839, 1108), (655, 1115, 685, 1143), (593, 1472, 623, 1500), (671, 1766, 701, 1794), (895, 1534, 925, 1562), (800, 1875, 828, 1905), (989, 1362, 1017, 1392), (1008, 1408, 1039, 1437), (1026, 1405, 1056, 1433), (959, 1352, 987, 1382), (1136, 1481, 1164, 1511)
fibroblast and endothelial: (669, 398, 701, 432), (1097, 1192, 1131, 1224), (379, 361, 410, 393), (391, 368, 423, 400), (444, 101, 476, 133), (403, 1412, 435, 1444), (285, 1444, 317, 1476), (262, 1499, 294, 1530), (333, 1456, 364, 1488), (780, 156, 812, 188), (755, 198, 787, 230), (757, 152, 789, 184), (916, 313, 948, 345), (594, 248, 626, 280), (828, 407, 860, 439), (835, 140, 867, 172), (648, 350, 679, 382), (731, 359, 763, 391), (846, 149, 878, 180), (715, 124, 747, 156), (610, 377, 642, 409), (886, 14, 918, 46), (901, 292, 932, 324), (479, 416, 511, 448), (734, 219, 766, 251), (686, 246, 718, 278), (711, 216, 743, 248), (821, 403, 853, 435), (699, 458, 731, 490), (870, 287, 902, 318), (612, 80, 644, 111), (718, 426, 750, 458), (938, 455, 970, 487), (932, 350, 964, 382), (899, 97, 931, 129), (632, 350, 663, 382), (908, 308, 939, 340), (764, 165, 796, 196), (764, 343, 796, 375), (738, 513, 770, 545), (768, 554, 800, 586), (821, 610, 853, 642), (704, 718, 736, 750), (757, 533, 789, 564), (655, 568, 686, 600), (941, 579, 973, 610), (676, 570, 708, 602), (757, 885, 789, 916), (893, 920, 925, 952), (878, 860, 909, 892), (837, 835, 869, 867), (775, 932, 807, 964), (842, 1085, 874, 1116), (663, 1405, 695, 1437), (695, 1391, 727, 1422), (931, 1309, 962, 1341), (899, 1192, 931, 1224), (888, 1129, 920, 1161), (856, 1077, 888, 1109), (725, 1384, 757, 1415), (817, 959, 849, 991), (1168, 51, 1200, 83), (989, 149, 1021, 180), (959, 370, 991, 402), (1371, 159, 1403, 191), (1235, 425, 1267, 456), (1076, 186, 1108, 218), (1007, 338, 1039, 370), (1407, 19, 1438, 51), (985, 320, 1017, 352), (1085, 154, 1116, 186), (959, 382, 991, 414), (1380, 396, 1412, 428), (1322, 366, 1353, 398), (1003, 143, 1035, 175), (1320, 412, 1352, 444), (1175, 122, 1207, 154), (1037, 78, 1069, 110), (1069, 455, 1100, 487), (1205, 249, 1237, 281), (975, 34, 1007, 65), (959, 12, 991, 44), (1373, 228, 1405, 260), (1194, 124, 1226, 156), (964, 142, 996, 173), (1240, 18, 1272, 50), (971, 814, 1003, 846), (1364, 771, 1396, 803), (1369, 824, 1401, 856), (1014, 656, 1046, 688), (1074, 563, 1106, 594), (1083, 766, 1115, 798), (1111, 649, 1143, 681), (1389, 731, 1421, 763), (1311, 828, 1343, 860), (1373, 571, 1405, 603), (1014, 697, 1046, 729), (1120, 644, 1152, 676), (1366, 561, 1398, 593), (1189, 920, 1221, 952), (1345, 918, 1376, 950), (1378, 529, 1410, 561), (1196, 941, 1228, 973), (1016, 931, 1047, 962), (1194, 699, 1226, 731), (1410, 603, 1442, 635), (1192, 1031, 1224, 1063), (1307, 1405, 1339, 1437), (1182, 970, 1214, 1001), (1191, 1246, 1223, 1277), (1277, 1378, 1309, 1410), (1062, 1159, 1093, 1191), (1086, 959, 1118, 991), (1076, 991, 1108, 1023), (1023, 1148, 1054, 1180), (1148, 1231, 1180, 1263), (1139, 1327, 1171, 1359), (1371, 1221, 1403, 1253), (1212, 975, 1244, 1007), (1054, 959, 1086, 991), (1141, 1293, 1173, 1325), (1295, 1127, 1327, 1159), (1329, 1269, 1361, 1300), (1115, 1196, 1146, 1228), (1030, 1214, 1062, 1246), (1033, 1169, 1065, 1201), (1329, 1624, 1361, 1656), (1368, 1874, 1399, 1905), (1088, 1824, 1120, 1856), (1028, 1635, 1060, 1667), (1058, 1502, 1090, 1534), (1366, 1891, 1398, 1923), (1185, 1511, 1217, 1543), (1254, 1624, 1286, 1656), (1076, 1605, 1108, 1637), (1178, 1506, 1210, 1537), (1180, 1578, 1212, 1610), (1203, 1463, 1235, 1495), (1398, 1658, 1430, 1690), (1173, 1900, 1205, 1932), (1359, 1752, 1391, 1783), (1129, 1545, 1161, 1576), (1392, 1730, 1424, 1762), (892, 881, 922, 915), (1150, 35, 1184, 65), (1180, 692, 1210, 725), (1196, 1773, 1230, 1803), (423, 110, 453, 142), (435, 241, 465, 272), (446, 90, 478, 120), (410, 152, 442, 182), (416, 382, 446, 414), (433, 111, 464, 143), (391, 117, 421, 149), (363, 1391, 393, 1422), (322, 1410, 354, 1440), (433, 1366, 464, 1398), (363, 1442, 395, 1472), (412, 1484, 442, 1516), (248, 1467, 278, 1499), (269, 1461, 301, 1491), (280, 1458, 310, 1490), (340, 1465, 372, 1495), (363, 1483, 395, 1513), (274, 1500, 304, 1532), (784, 175, 816, 205), (697, 73, 727, 104), (646, 195, 676, 226), (915, 212, 945, 244), (732, 341, 764, 372), (748, 81, 780, 111), (683, 433, 713, 465), (704, 336, 736, 366), (490, 211, 520, 242), (559, 398, 591, 428), (573, 159, 605, 189), (563, 90, 593, 122), (870, 375, 901, 407), (672, 19, 704, 50), (794, 67, 824, 99), (651, 241, 681, 272), (635, 44, 667, 74), (925, 377, 955, 409), (616, 92, 646, 124), (743, 200, 775, 230), (812, 19, 844, 50), (899, 329, 929, 361), (543, 39, 573, 71), (759, 55, 789, 87), (554, 292, 584, 324), (676, 412, 706, 444), (805, 50, 837, 80), (763, 71, 794, 101), (525, 221, 556, 253), (766, 269, 796, 301), (925, 433, 957, 464), (568, 18, 598, 50), (561, 228, 593, 258), (752, 134, 784, 165), (941, 317, 971, 349), (688, 324, 718, 356), (826, 58, 858, 88), (752, 60, 782, 92), (835, 255, 865, 287), (918, 198, 950, 228), (690, 448, 722, 478), (936, 571, 968, 602), (816, 487, 846, 518), (886, 874, 916, 906), (893, 522, 925, 552), (832, 580, 862, 612), (674, 518, 704, 550), (821, 637, 853, 667), (927, 676, 959, 706), (938, 692, 970, 722), (879, 628, 911, 658), (651, 488, 681, 520), (856, 690, 886, 722), (816, 692, 847, 722), (902, 791, 934, 821), (886, 863, 916, 895), (796, 628, 826, 660), (890, 901, 922, 931), (810, 662, 842, 692), (718, 504, 750, 534), (812, 844, 842, 876), (773, 681, 805, 711), (794, 648, 824, 679), (867, 540, 899, 570), (573, 552, 603, 584), (743, 529, 773, 561), (844, 663, 874, 695), (865, 676, 897, 706), (860, 683, 890, 715), (782, 692, 812, 724), (559, 479, 589, 511), (865, 892, 895, 924), (888, 699, 920, 729), (717, 515, 748, 545), (794, 833, 824, 865), (759, 1194, 789, 1226), (679, 1403, 711, 1433), (931, 970, 962, 1000), (732, 1231, 764, 1261), (754, 1391, 784, 1422), (888, 1111, 920, 1141), (839, 1175, 870, 1205), (584, 1307, 616, 1338), (623, 1414, 653, 1445), (918, 1217, 950, 1247), (817, 1290, 849, 1320), (888, 1196, 918, 1228), (649, 1403, 679, 1435), (1254, 23, 1286, 53), (1028, 386, 1060, 416), (980, 65, 1010, 97), (1353, 189, 1385, 219), (1021, 322, 1053, 352), (1279, 322, 1311, 352), (1026, 117, 1058, 147), (1030, 402, 1062, 432), (1322, 269, 1353, 299), (1279, 216, 1309, 248), (1240, 299, 1270, 331), (1247, 104, 1279, 134), (996, 156, 1026, 188), (1343, 430, 1375, 460), (973, 237, 1003, 269), (1251, 437, 1281, 469), (1244, 69, 1276, 99), (1201, 303, 1233, 333), (1169, 150, 1201, 180), (1217, 402, 1247, 433), (1311, 267, 1343, 297), (1033, 432, 1063, 464), (1017, 297, 1047, 329), (1284, 336, 1316, 366), (1253, 12, 1283, 44), (1037, 405, 1067, 437), (1122, 60, 1152, 92), (1067, 124, 1099, 154), (1277, 464, 1309, 494), (1008, 104, 1039, 136), (1194, 308, 1226, 338), (1146, 120, 1177, 152), (970, 387, 1001, 418), (980, 456, 1010, 488), (1017, 311, 1047, 343), (1223, 276, 1253, 308), (1403, 264, 1435, 294), (975, 444, 1005, 476), (1277, 232, 1307, 264), (1012, 122, 1044, 152), (1047, 333, 1077, 364), (1106, 416, 1138, 446), (977, 134, 1007, 166), (1164, 64, 1194, 96), (1024, 108, 1056, 138), (1007, 168, 1039, 198), (1023, 288, 1053, 320), (1016, 538, 1046, 570), (962, 547, 993, 579), (1076, 789, 1108, 819), (1164, 699, 1194, 731), (978, 570, 1008, 602), (1300, 711, 1332, 741), (1005, 617, 1037, 648), (1189, 669, 1219, 701), (1127, 856, 1157, 888), (1085, 584, 1115, 616), (1378, 605, 1408, 637), (970, 754, 1001, 784), (1054, 761, 1085, 793), (993, 552, 1023, 584), (1187, 736, 1219, 766), (1408, 594, 1438, 626), (1063, 538, 1093, 570), (1286, 725, 1316, 757), (1161, 632, 1191, 663), (1056, 786, 1088, 816), (1016, 842, 1046, 874), (1357, 533, 1387, 564), (1207, 869, 1238, 899), (966, 893, 996, 925), (1106, 727, 1138, 757), (1387, 639, 1417, 671), (1129, 690, 1161, 720), (1394, 688, 1424, 720), (1026, 932, 1058, 962), (1357, 522, 1389, 552), (1274, 722, 1306, 752), (1007, 939, 1039, 970), (1044, 888, 1076, 918), (1373, 538, 1405, 568), (1403, 941, 1433, 973), (1240, 805, 1270, 837), (1132, 837, 1162, 869), (1026, 566, 1058, 596), (1192, 932, 1224, 962), (1129, 846, 1159, 878), (1408, 612, 1438, 644), (1023, 479, 1054, 510), (1378, 591, 1408, 623), (982, 816, 1014, 846), (1191, 975, 1221, 1007), (1067, 1178, 1099, 1208), (1201, 977, 1233, 1007), (1286, 1223, 1318, 1253), (1178, 1108, 1208, 1139), (1003, 1171, 1033, 1203), (1246, 1224, 1277, 1254), (1090, 1189, 1122, 1219), (1016, 971, 1046, 1003), (1357, 1203, 1387, 1235), (1090, 1077, 1120, 1109), (1049, 1129, 1079, 1161), (1129, 1412, 1161, 1442), (1138, 1415, 1168, 1447), (1269, 1267, 1300, 1297), (1242, 1005, 1274, 1035), (1247, 1384, 1277, 1415), (1139, 1391, 1169, 1422), (1238, 1139, 1270, 1169), (1138, 1028, 1169, 1058), (1145, 1256, 1175, 1288), (1108, 1309, 1139, 1339), (1384, 1307, 1415, 1338), (1074, 1330, 1106, 1361), (1044, 1336, 1074, 1368), (1122, 1154, 1154, 1184), (1161, 1221, 1192, 1251), (980, 1200, 1010, 1231), (1106, 1350, 1138, 1380), (1035, 1359, 1065, 1391), (1362, 1261, 1392, 1293), (1145, 959, 1175, 991), (1051, 1191, 1083, 1221), (1378, 1281, 1410, 1311), (1097, 1373, 1129, 1403), (1380, 1292, 1410, 1323), (1362, 1208, 1392, 1240), (1284, 1106, 1316, 1136), (1063, 1389, 1093, 1421), (1077, 1182, 1109, 1212), (1362, 1192, 1394, 1223), (1039, 1352, 1070, 1382), (1352, 1185, 1384, 1215), (996, 1277, 1028, 1307), (1246, 1012, 1276, 1044), (1313, 1106, 1345, 1136), (1010, 1162, 1040, 1194), (1125, 1403, 1155, 1435), (993, 982, 1023, 1014), (1382, 1874, 1412, 1905), (1037, 1886, 1067, 1918), (1362, 1778, 1392, 1810), (1249, 1476, 1279, 1507), (1138, 1573, 1169, 1603), (1290, 1757, 1322, 1787), (1421, 1725, 1453, 1755), (1065, 1583, 1095, 1615), (1122, 1596, 1154, 1626), (1047, 1596, 1079, 1626), (1364, 1831, 1396, 1861), (1341, 1514, 1371, 1546), (1224, 1863, 1254, 1895), (1215, 1560, 1246, 1592), (1090, 1518, 1122, 1548), (1221, 1495, 1251, 1527), (1040, 1874, 1072, 1904), (1106, 1573, 1138, 1603), (1028, 1608, 1060, 1638), (1139, 1815, 1169, 1847), (1251, 1651, 1281, 1683), (1083, 1477, 1113, 1509), (973, 1882, 1003, 1914), (1396, 1610, 1426, 1642), (1178, 1842, 1210, 1872), (1253, 1484, 1284, 1514), (1030, 1872, 1062, 1902), (1307, 1732, 1339, 1762), (1054, 1591, 1086, 1621), (1221, 1787, 1251, 1819), (1307, 1845, 1338, 1877), (1203, 1819, 1233, 1851), (1233, 1603, 1265, 1633), (1150, 1886, 1182, 1916), (1162, 1557, 1194, 1587), (1031, 1858, 1062, 1890), (419, 172, 449, 202), (414, 1376, 444, 1407), (343, 1440, 373, 1470), (333, 1470, 363, 1500), (419, 1463, 449, 1493), (379, 1504, 409, 1534), (310, 1454, 340, 1484), (320, 1456, 350, 1486), (352, 1451, 382, 1481), (363, 1504, 393, 1534), (297, 1479, 327, 1509), (290, 1486, 320, 1516), (775, 173, 805, 203), (784, 166, 814, 196), (681, 419, 711, 449), (709, 269, 740, 299), (543, 103, 573, 133), (826, 338, 856, 368), (909, 341, 939, 372), (725, 42, 755, 73), (743, 16, 773, 46), (699, 267, 729, 297), (819, 27, 849, 57), (932, 444, 962, 474), (683, 44, 713, 74), (701, 437, 731, 467), (637, 81, 667, 111), (931, 196, 961, 226), (623, 189, 653, 219), (674, 387, 704, 418), (688, 456, 718, 487), (752, 94, 782, 124), (943, 356, 973, 386), (479, 297, 510, 327), (828, 85, 858, 115), (771, 104, 801, 134), (927, 177, 957, 207), (556, 412, 586, 442), (830, 67, 860, 97), (770, 157, 800, 188), (870, 708, 901, 738), (747, 488, 777, 518), (878, 741, 908, 771), (906, 922, 936, 952), (635, 584, 665, 614), (763, 490, 793, 520), (938, 876, 968, 906), (639, 533, 669, 563), (842, 773, 872, 803), (899, 1263, 929, 1293), (886, 1033, 916, 1063), (839, 1387, 869, 1417), (892, 1235, 922, 1265), (786, 1362, 816, 1392), (913, 1056, 943, 1086), (851, 1123, 881, 1154), (660, 1415, 690, 1445), (855, 998, 885, 1028), (706, 1396, 736, 1426), (561, 1111, 591, 1141), (876, 1104, 906, 1134), (784, 1246, 814, 1276), (646, 1453, 676, 1483), (1099, 133, 1129, 163), (1099, 412, 1129, 442), (1277, 143, 1307, 173), (1088, 16, 1118, 46), (973, 373, 1003, 403), (1086, 391, 1116, 421), (1297, 336, 1327, 366), (1100, 193, 1131, 223), (1338, 412, 1368, 442), (1302, 372, 1332, 402), (1024, 395, 1054, 425), (1307, 334, 1338, 364), (1219, 439, 1249, 469), (1260, 368, 1290, 398), (1010, 180, 1040, 211), (1380, 354, 1410, 384), (1007, 193, 1037, 223), (1180, 28, 1210, 58), (1069, 111, 1099, 142), (1192, 442, 1223, 472), (1016, 41, 1046, 71), (1083, 295, 1113, 326), (1336, 71, 1366, 101), (1237, 257, 1267, 287), (987, 138, 1017, 168), (1251, 4, 1281, 34), (1180, 149, 1210, 179), (1281, 129, 1311, 159), (1240, 203, 1270, 234), (1086, 372, 1116, 402), (1141, 46, 1171, 76), (1131, 226, 1161, 257), (1014, 99, 1044, 129), (1031, 145, 1062, 175), (1154, 249, 1184, 280), (1175, 5, 1205, 35), (1341, 161, 1371, 191), (1125, 2, 1155, 32), (1097, 280, 1127, 310), (1023, 265, 1053, 295), (1000, 798, 1030, 828), (1221, 564, 1251, 594), (1419, 791, 1449, 821), (1410, 780, 1440, 810), (1037, 633, 1067, 663), (1341, 605, 1371, 635), (1090, 602, 1120, 632), (1177, 773, 1207, 803), (1123, 786, 1154, 816), (1401, 617, 1431, 648), (1306, 895, 1336, 925), (1359, 510, 1389, 540), (1412, 902, 1442, 932), (1392, 913, 1422, 943), (961, 584, 991, 614), (1079, 575, 1109, 605), (1207, 702, 1237, 732), (1378, 520, 1408, 550), (1132, 1343, 1162, 1373), (1357, 1338, 1387, 1368), (1212, 1353, 1242, 1384), (968, 989, 998, 1019), (1249, 1143, 1279, 1173), (1155, 1099, 1185, 1129), (1065, 1233, 1095, 1263), (1307, 1350, 1338, 1380), (977, 1277, 1007, 1307), (1104, 1033, 1134, 1063), (1306, 1083, 1336, 1113), (971, 1215, 1001, 1246), (1031, 975, 1062, 1005), (1422, 1394, 1453, 1424), (1065, 1223, 1095, 1253), (1417, 1587, 1447, 1617), (1062, 1449, 1092, 1479), (1056, 1859, 1086, 1890), (1104, 1605, 1134, 1635), (1003, 1898, 1033, 1928), (1185, 1614, 1215, 1644), (1332, 1484, 1362, 1514), (1037, 1852, 1067, 1882), (1097, 1467, 1127, 1497), (1074, 1506, 1104, 1536), (1056, 1442, 1086, 1472), (1403, 1856, 1433, 1886), (1226, 1773, 1256, 1803), (370, 67, 398, 99), (715, 264, 747, 292), (842, 1376, 870, 1408), (1024, 274, 1056, 303), (1246, 432, 1277, 460), (1003, 253, 1035, 281), (1295, 579, 1327, 607), (1115, 853, 1146, 881), (1051, 1867, 1079, 1898), (1093, 1440, 1125, 1468), (453, 1463, 481, 1493), (610, 73, 639, 103), (893, 317, 924, 345), (936, 423, 964, 453), (709, 464, 740, 492), (479, 341, 508, 372), (1235, 12, 1265, 41), (1168, 30, 1196, 60), (962, 527, 993, 556)
lymphocyte: (320, 1560, 352, 1592), (938, 821, 970, 853), (925, 1341, 957, 1373), (1001, 488, 1033, 520), (1106, 1893, 1138, 1925), (1178, 133, 1208, 166), (393, 1495, 425, 1525), (722, 219, 754, 249), (925, 361, 957, 391), (869, 1359, 899, 1391), (1077, 287, 1108, 318), (1414, 679, 1445, 709), (1237, 1867, 1269, 1897), (1373, 1652, 1405, 1683), (1162, 1833, 1192, 1865), (1198, 1792, 1230, 1822), (449, 1357, 479, 1387), (308, 1520, 338, 1550), (418, 1831, 448, 1861), (874, 301, 904, 331), (909, 892, 939, 922), (791, 1127, 821, 1157), (1157, 189, 1187, 219), (1062, 460, 1092, 490), (1104, 929, 1134, 959), (968, 487, 996, 518)
